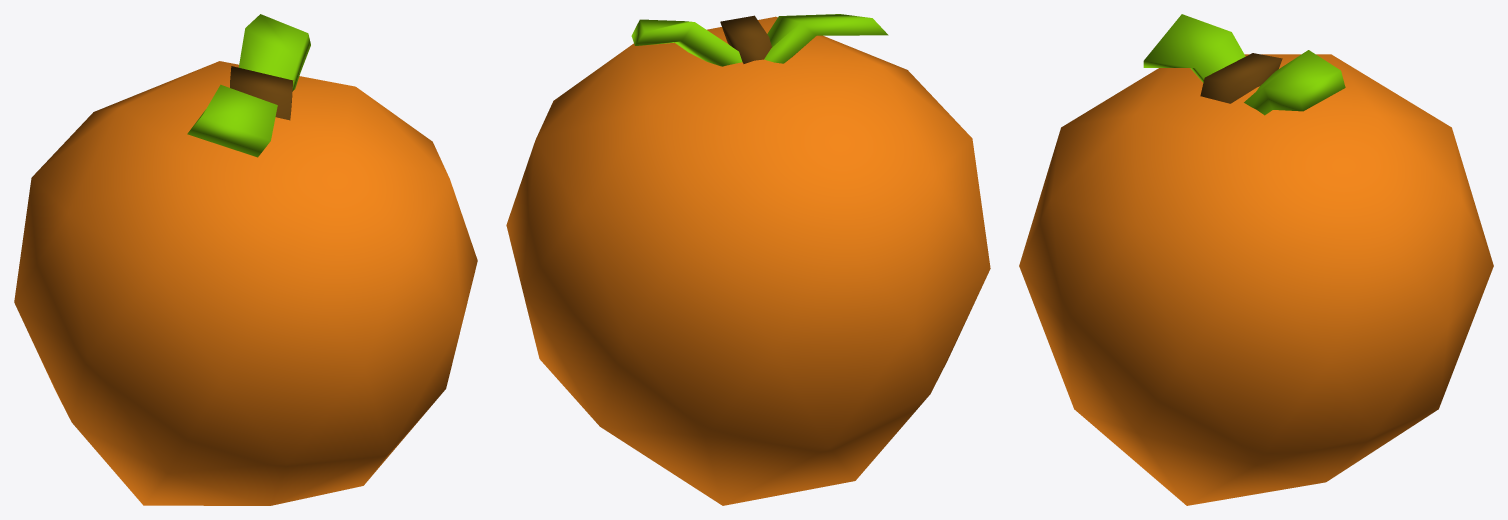
The model's file is Fruit_Orange.fbx.
The picture shows the model from 3 angles, left to right: view 1: azimuth 30°, elevation 25°; view 2: azimuth 150°, elevation 25°; view 3: azimuth 270°, elevation 25°; orthographic projection. The views are drawn at different scales.
Visible parts, largest first — view 1: Fruit_Orange; view 2: Fruit_Orange; view 3: Fruit_Orange.
Boxes of the visible parts, x1=… form: Fruit_Orange: x1=14, y1=14, x2=477, y2=505; Fruit_Orange: x1=506, y1=14, x2=990, y2=505; Fruit_Orange: x1=1019, y1=14, x2=1493, y2=505.
Bounding box in the file's own units: 10.02 × 10.48 × 10.54.
